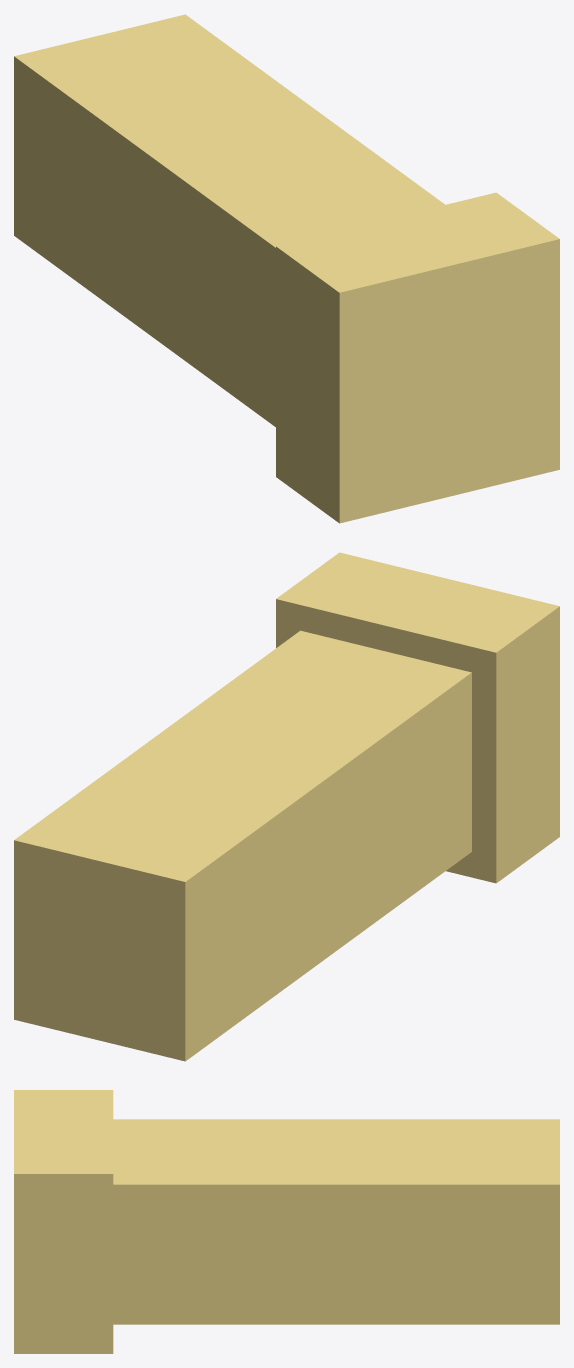
Rendered from toy-soldier-bullet.glb.
3 views of the same model, one above another, from view 1: azimuth 30°, elevation 25°; view 2: azimuth 150°, elevation 25°; view 3: azimuth 270°, elevation 25° (orthographic). The views are drawn at different scales.
Size of the model in its own units: 0.18 by 0.18 by 0.495.
